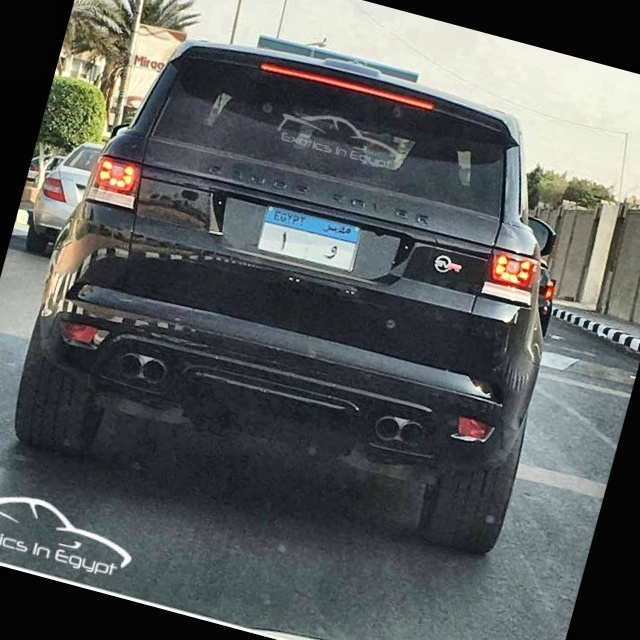License Plate: (253, 199, 365, 275)
